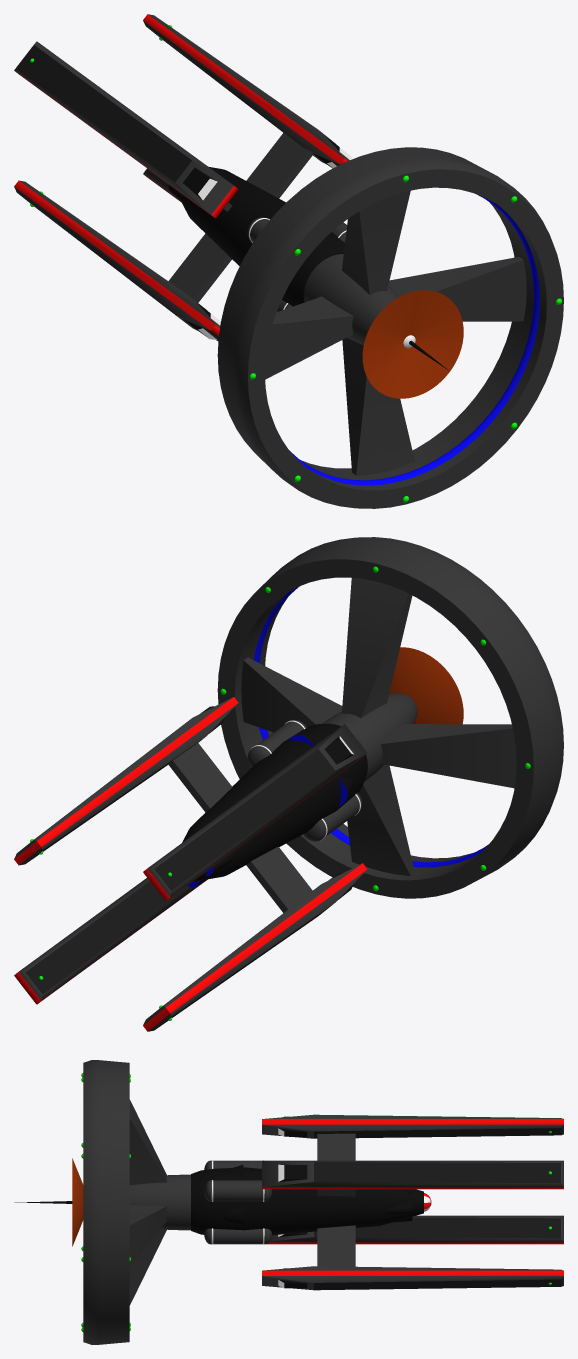
The model's file is OeProbe.FBX.
3 renders of one model, top to bottom at view 1: azimuth 30°, elevation 25°; view 2: azimuth 150°, elevation 25°; view 3: azimuth 270°, elevation 25°, orthographic. The views are drawn at different scales.
Visible parts, largest first — view 1: Engine, OeProbe, Hull; view 2: Hull, Engine, OeProbe; view 3: Hull, Engine, OeProbe.
Boxes of the visible parts, <box> form: Engine: <box>217,147,563,508</box>; OeProbe: <box>265,190,526,475</box>; Hull: <box>14,14,352,340</box>; Hull: <box>14,697,367,1031</box>; Engine: <box>217,537,563,898</box>; OeProbe: <box>241,578,516,875</box>; Hull: <box>191,1114,563,1290</box>; Engine: <box>81,1060,130,1344</box>; OeProbe: <box>14,1099,190,1305</box>.
Bounding box in the file's own units: 2 × 2 × 3.86.
